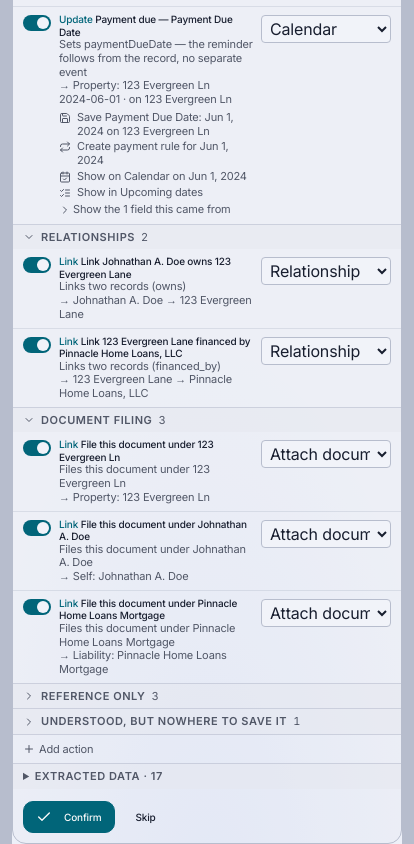
Test: the review pane leads with meaning, not with 75 rows › shows an unsavable action with its reason, and no way to turn it on
(page scrolled)
Click the button with test id "action-group-toggle-unsupported" at (207, 722), box [13, 709, 401, 734]
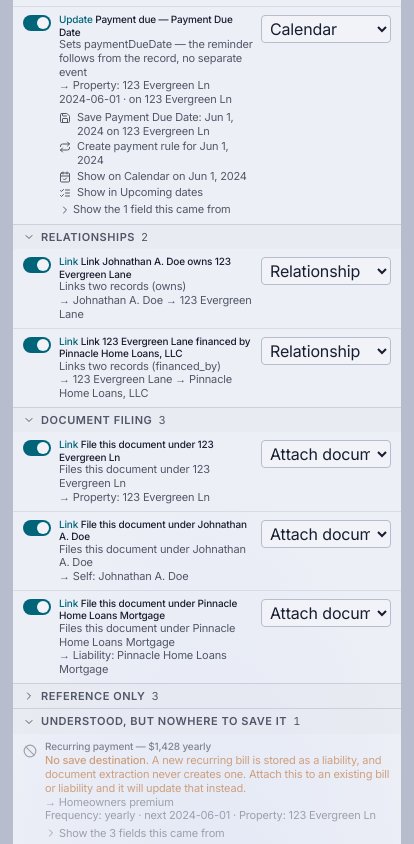
Check: the element with test id "action-unsupported-" shows "No save destination", box [45, 753, 149, 767]
